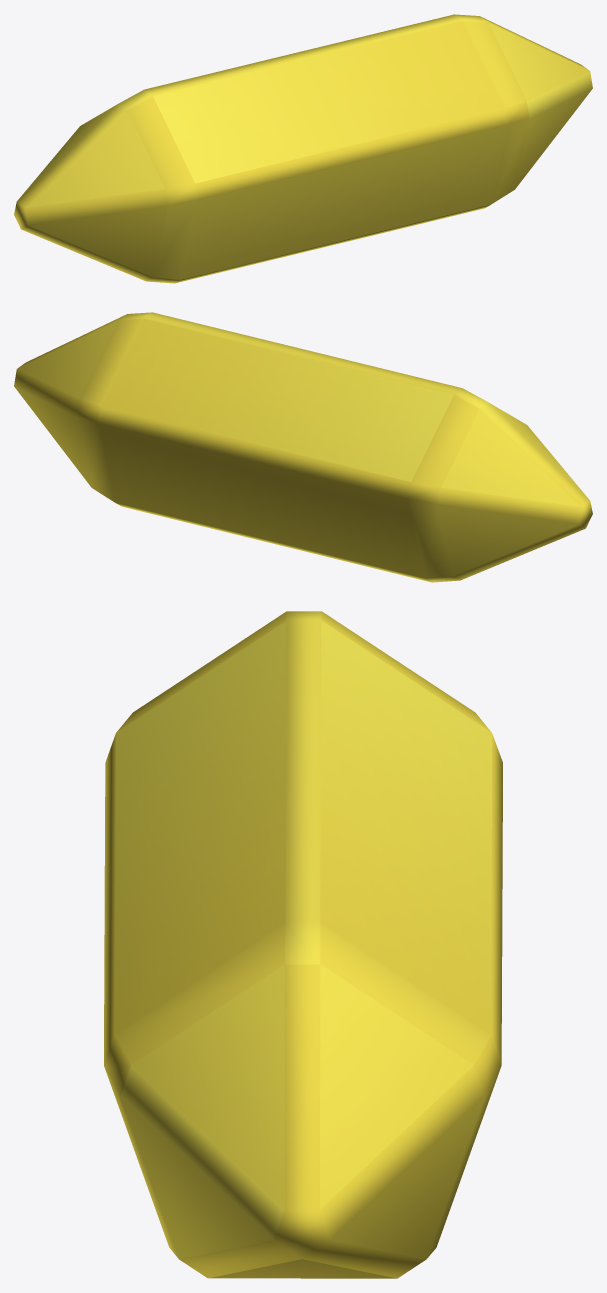
The model's file is christal_topaz_1.fbx.
The picture shows the model from 3 angles, top to bottom: view 1: azimuth 30°, elevation 25°; view 2: azimuth 150°, elevation 25°; view 3: azimuth 270°, elevation 25°; orthographic projection. The views are drawn at different scales.
Visible parts, largest first — view 1: christal_topaz_1; view 2: christal_topaz_1; view 3: christal_topaz_1.
Boxes of the visible parts, left/top/right/bottom form: christal_topaz_1: left=14, top=14, right=592, bottom=283; christal_topaz_1: left=14, top=312, right=592, bottom=582; christal_topaz_1: left=104, top=611, right=502, bottom=1278.
Size of the model in its own units: 110 by 31.95 by 33.68.
1 material, 1 textured.
